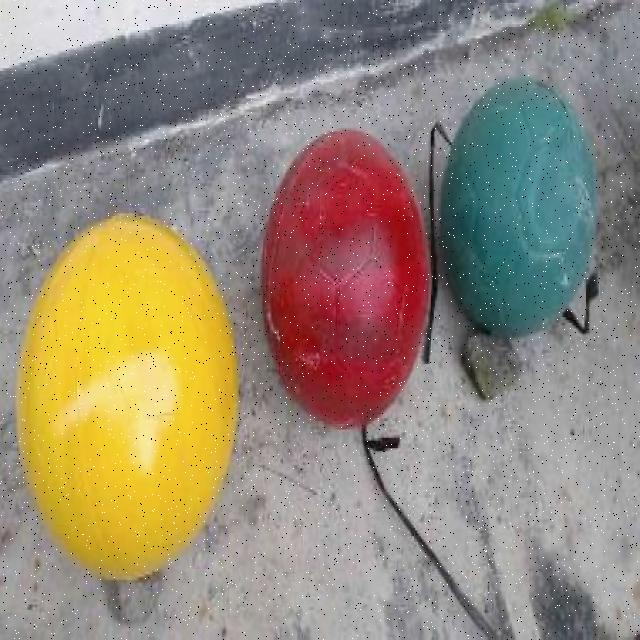buoy: (14, 210, 238, 578), (260, 126, 430, 432), (438, 75, 599, 335)
